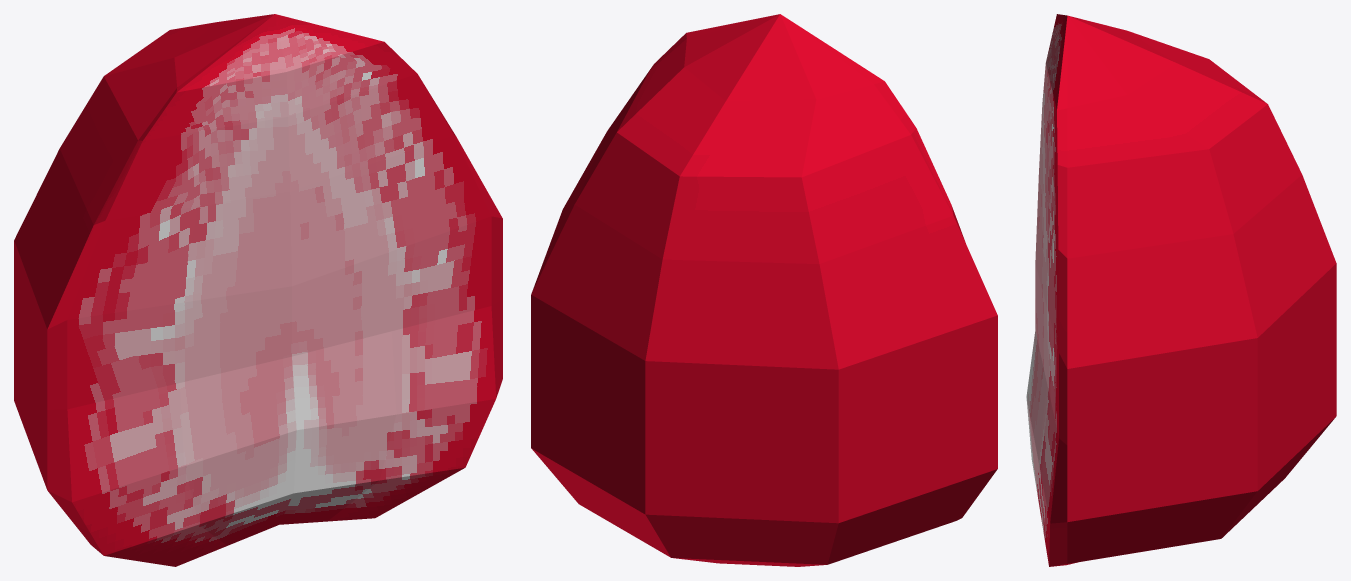
The model's file is SLICED STRAWBERRY.fbx.
3 renders of one model, left to right at view 1: azimuth 30°, elevation 25°; view 2: azimuth 150°, elevation 25°; view 3: azimuth 270°, elevation 25°, orthographic. The views are drawn at different scales.
Visible parts, largest first — view 1: SLICED_STRAW; view 2: SLICED_STRAW; view 3: SLICED_STRAW.
Boxes of the visible parts, x1=… form: SLICED_STRAW: x1=14, y1=14, x2=502, y2=566; SLICED_STRAW: x1=531, y1=14, x2=997, y2=566; SLICED_STRAW: x1=1026, y1=14, x2=1336, y2=566.
Bounding box in the file's own units: 71.64 × 79.4 × 44.34.
